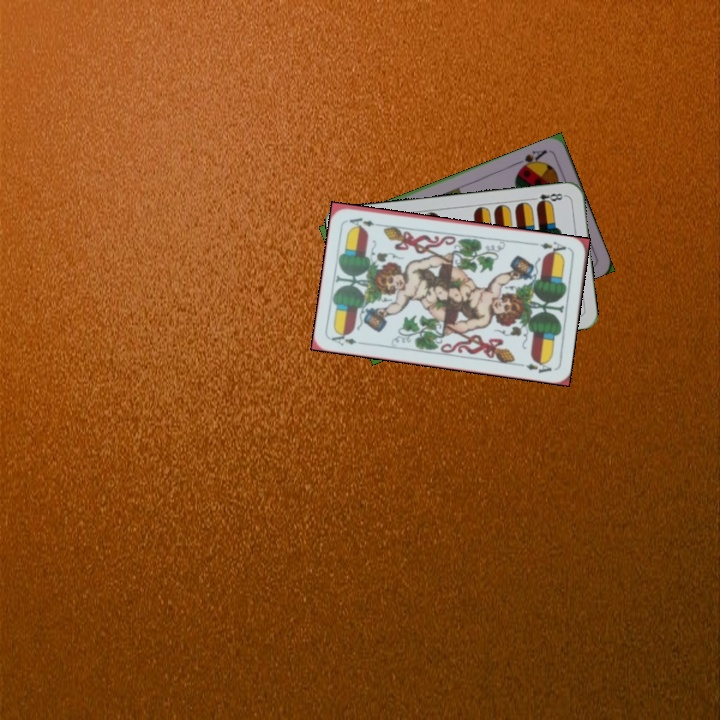E8: (527, 189, 568, 208)
EA: (327, 328, 368, 348), (536, 238, 572, 258)
SA: (512, 146, 549, 173)
